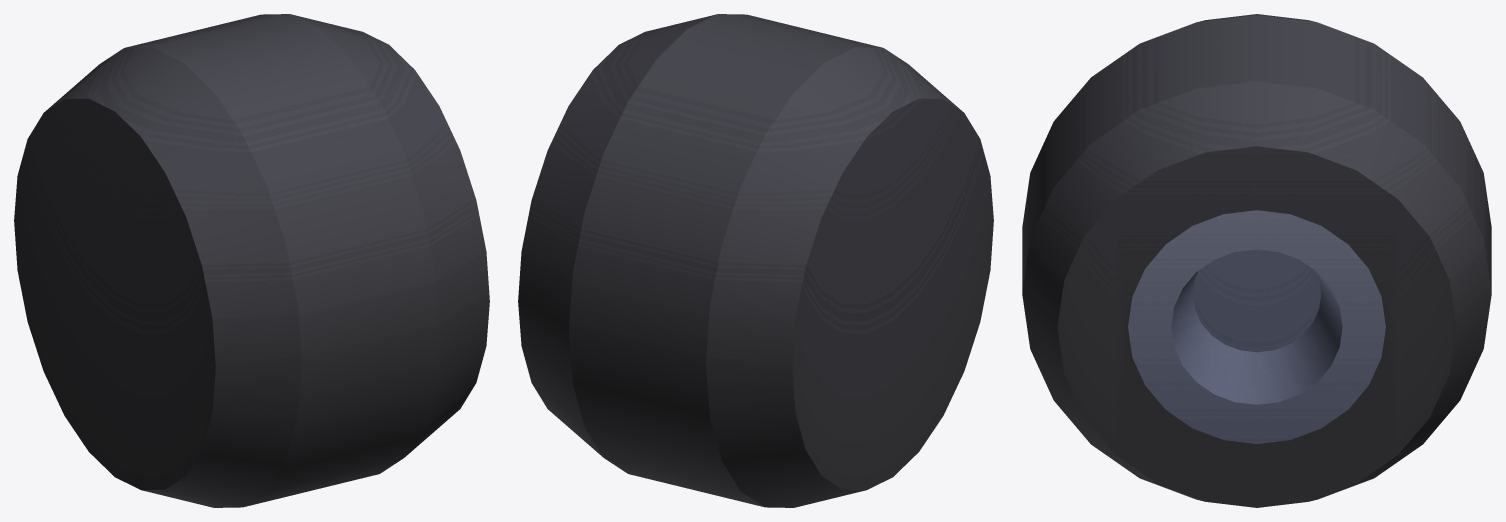
The model's file is wheel-dark.glb.
3 views of the same model, side by side, from view 1: azimuth 30°, elevation 25°; view 2: azimuth 150°, elevation 25°; view 3: azimuth 270°, elevation 25° (orthographic).
Parts seen in each view (by area): view 1: wheel-dark; view 2: wheel-dark; view 3: wheel-dark.
Boxes of the visible parts, box(x1,y1,x2,y2) form: wheel-dark: box(14, 14, 489, 507); wheel-dark: box(518, 14, 993, 507); wheel-dark: box(1022, 14, 1491, 507).
Size of the model in its own units: 0.4 by 0.6 by 0.6.
1 material, 1 textured.
